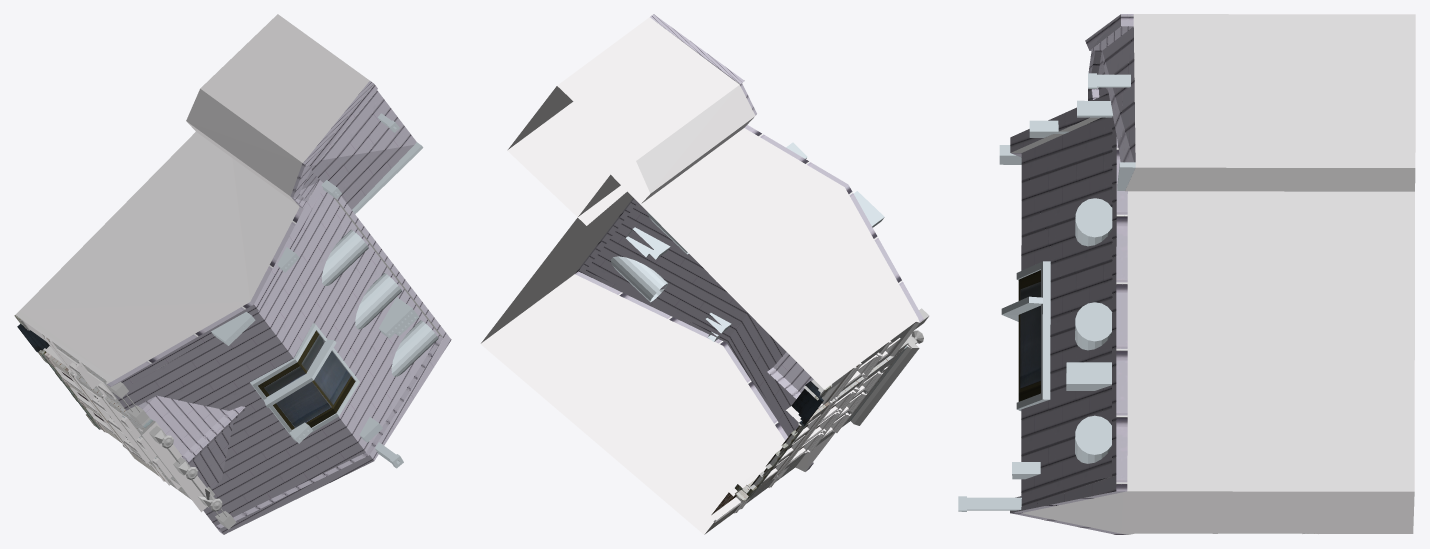
File: Suur-Karja5.obj
3 views of the same model, side by side, from view 1: azimuth 30°, elevation 25°; view 2: azimuth 150°, elevation 25°; view 3: azimuth 270°, elevation 25° (orthographic). The views are drawn at different scales.
Visible parts, largest first — view 1: Suur_Karja_5; view 2: Suur_Karja_5; view 3: Suur_Karja_5.
Boxes of the visible parts, box(x1,y1,x2,y2) form: Suur_Karja_5: box(14, 14, 451, 534); Suur_Karja_5: box(480, 14, 929, 534); Suur_Karja_5: box(958, 14, 1415, 534).
Bounding box in the file's own units: 27.61 × 31.95 × 20.86.
